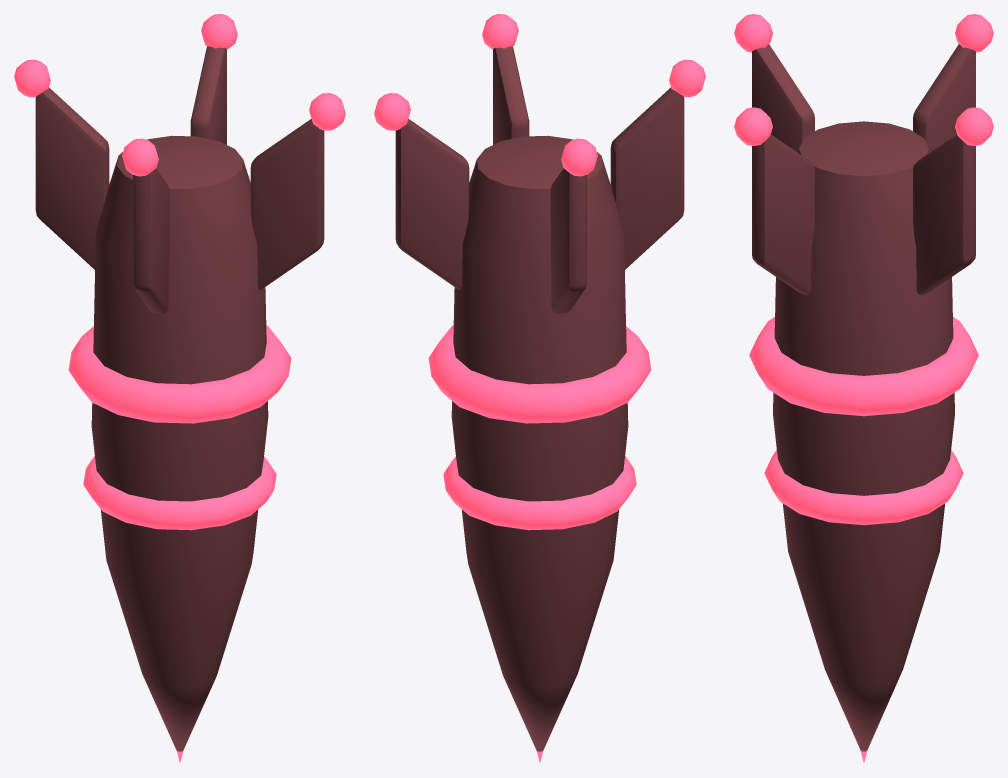
File: bomb_plunger.glb
The picture shows the model from 3 angles, left to right: view 1: azimuth 30°, elevation 25°; view 2: azimuth 150°, elevation 25°; view 3: azimuth 270°, elevation 25°; orthographic projection. The views are drawn at different scales.
Parts seen in each view (by area): view 1: bomb_plunger; view 2: bomb_plunger; view 3: bomb_plunger.
Part boxes in pixels (box(x1,y1,x2,y2)): bomb_plunger: box(14, 14, 345, 762); bomb_plunger: box(374, 14, 705, 762); bomb_plunger: box(734, 14, 993, 762).
Bounding box in the file's own units: 0.1198 × 0.357 × 0.1198.
